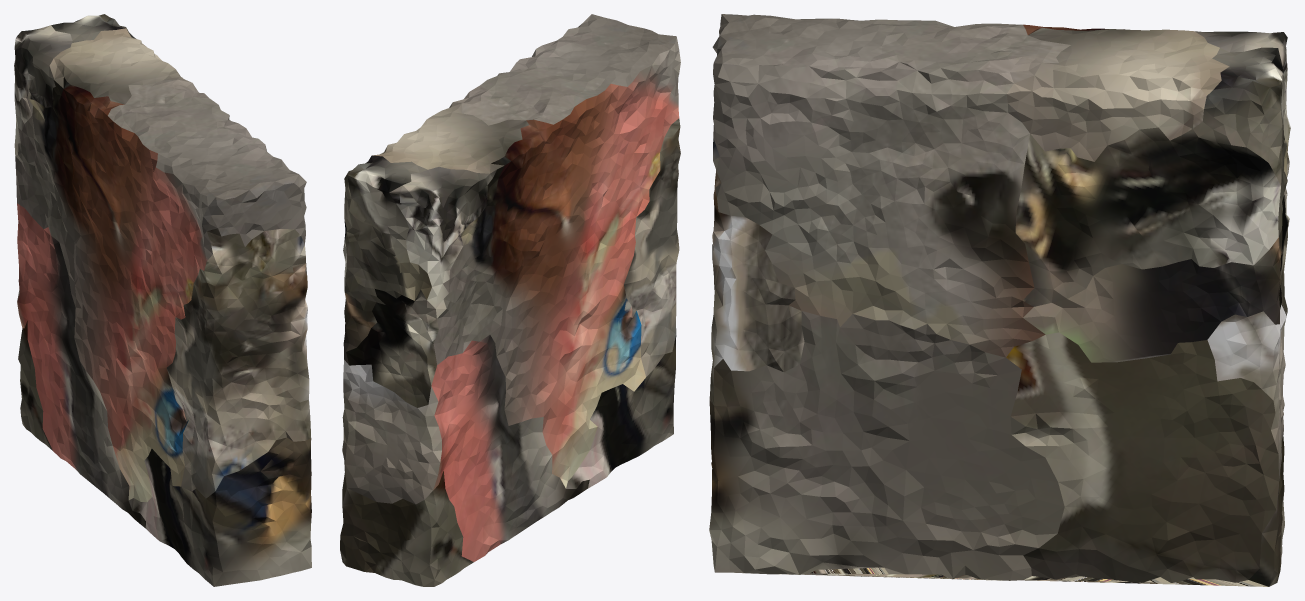
File: Escape.fbx
3 renders of one model, left to right at view 1: azimuth 30°, elevation 25°; view 2: azimuth 150°, elevation 25°; view 3: azimuth 270°, elevation 25°, orthographic. The views are drawn at different scales.
Visible parts, largest first — view 1: textured_output; view 2: textured_output; view 3: textured_output.
Boxes of the visible parts, x1=… form: textured_output: x1=14, y1=14, x2=311, y2=586; textured_output: x1=340, y1=14, x2=680, y2=586; textured_output: x1=709, y1=14, x2=1290, y2=586.
Bounding box in the file's own units: 9.63 × 28.44 × 29.62.
